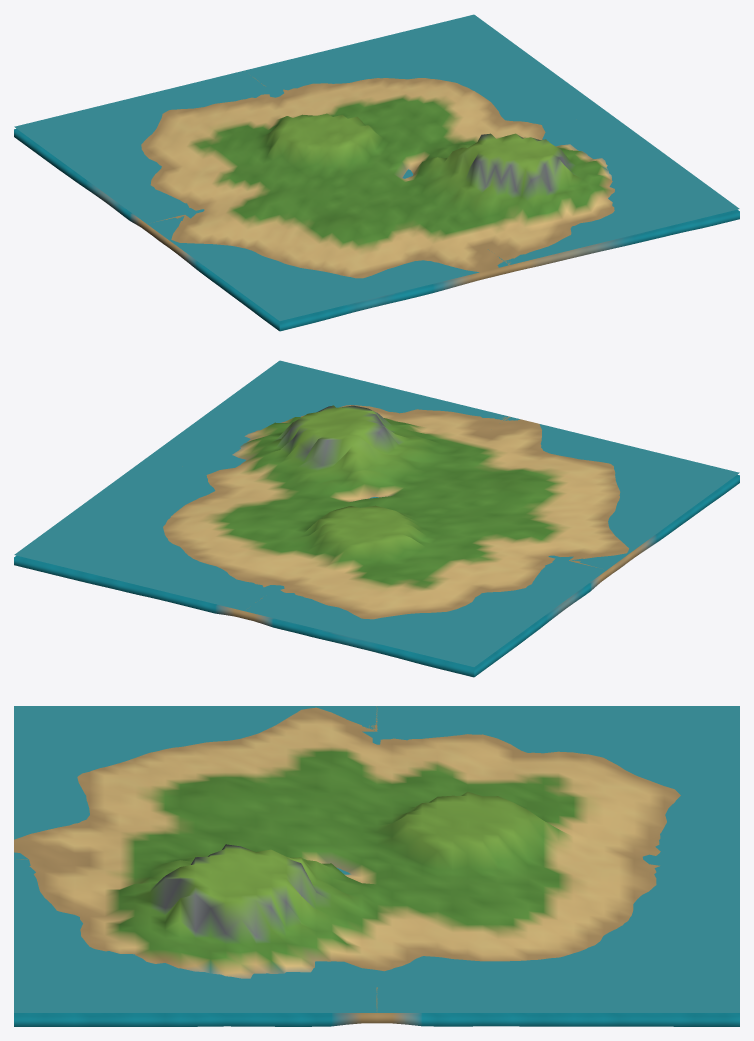
The model's file is far.glb.
3 renders of one model, top to bottom at view 1: azimuth 30°, elevation 25°; view 2: azimuth 150°, elevation 25°; view 3: azimuth 270°, elevation 25°, orthographic. The views are drawn at different scales.
Parts seen in each view (by area): view 1: far-proxy; view 2: far-proxy; view 3: far-proxy.
Part boxes in pixels (bbox=[...]): far-proxy: bbox=[14, 14, 739, 331]; far-proxy: bbox=[14, 360, 739, 677]; far-proxy: bbox=[14, 706, 739, 1026].
Bounding box in the file's own units: 500 × 48.49 × 500.
